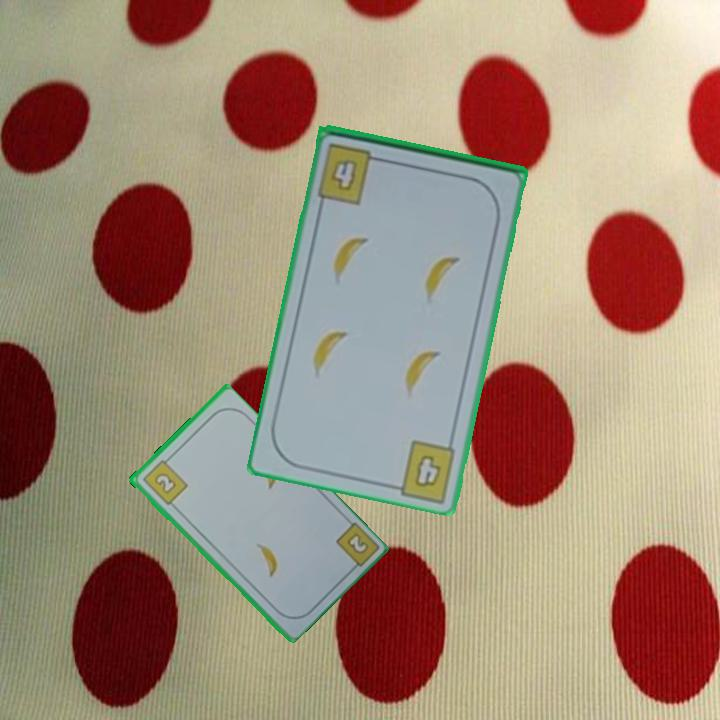2b: (331, 518, 380, 576), (139, 453, 190, 508)
4b: (314, 140, 388, 207), (412, 451, 445, 491)
